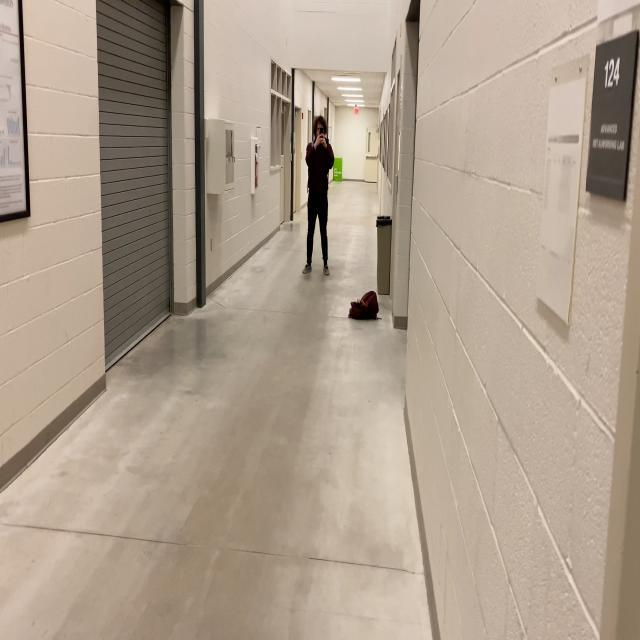Backpacks: (348, 290, 380, 321)
